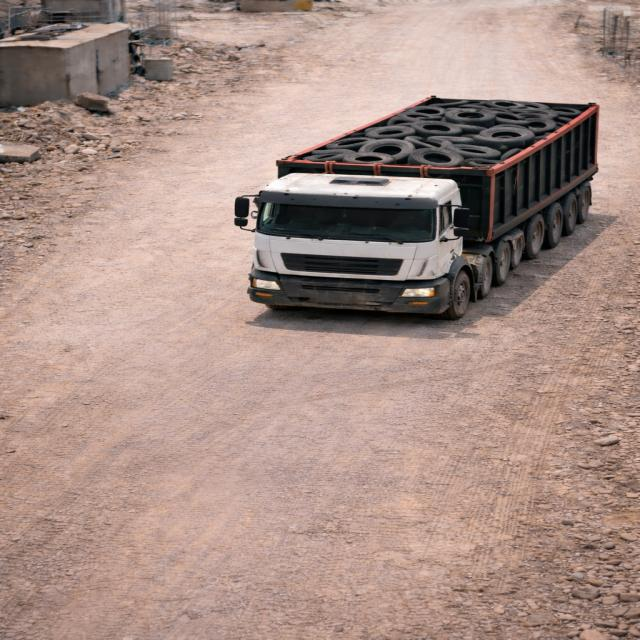Box: (286, 93, 596, 170)
Truck: (233, 82, 617, 318)
